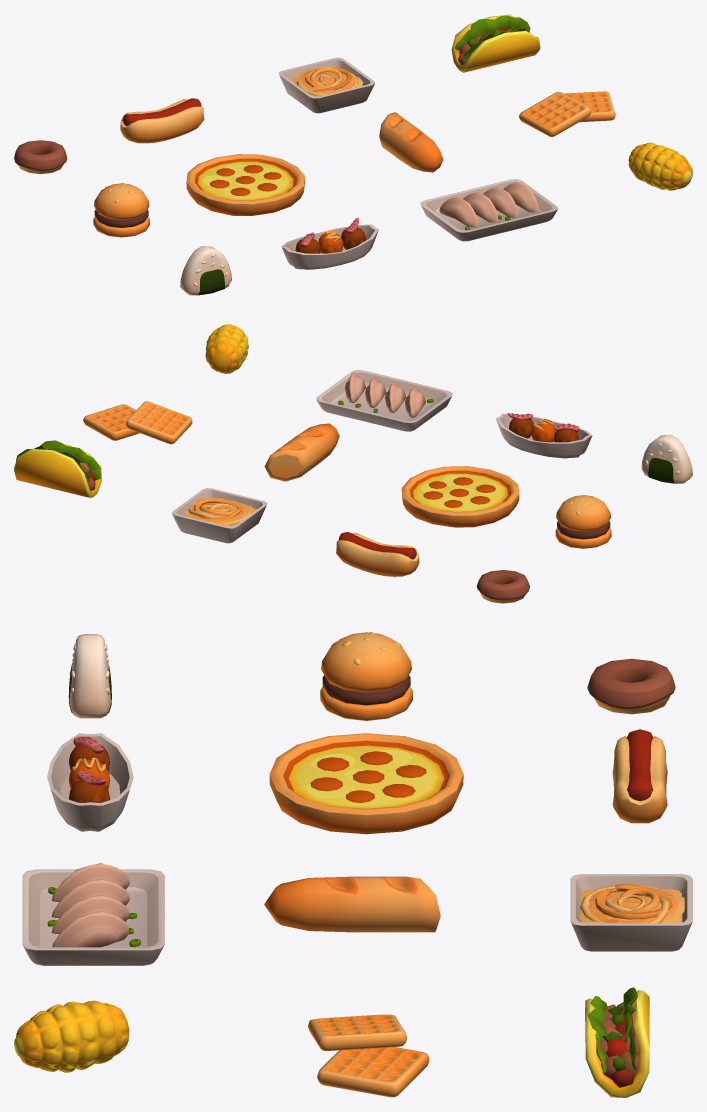
File: Food 1.fbx
3 renders of one model, top to bottom at view 1: azimuth 30°, elevation 25°; view 2: azimuth 150°, elevation 25°; view 3: azimuth 270°, elevation 25°, orthographic. The views are drawn at different scales.
Parts seen in each view (by area): view 1: F_Europe_Pizza_Pepperoni_LOD0, F_Asia_Dumplings_LOD0, F_Latin_Taco_Classic_LOD0, F_Europe_Pasta_LOD0, F_Asia_Takoyaki_Small_LOD0, F_Europe_Bakery_Waffles_LOD0, F_Europe_Hotdog_Hotdog_Classic_LOD0, F_Europe_Burger_Hamburger_LOD0, F_Europe_Bakery_French_Baguette_Half_LOD0, F_Latin_Corn_LOD0, F_Asia_Onigiri_LOD0, F_Europe_Bakery_Donut_Chocolate_LOD0; view 2: F_Europe_Pizza_Pepperoni_LOD0, F_Asia_Dumplings_LOD0, F_Europe_Pasta_LOD0, F_Latin_Taco_Classic_LOD0, F_Asia_Takoyaki_Small_LOD0, F_Europe_Bakery_Waffles_LOD0, F_Europe_Hotdog_Hotdog_Classic_LOD0, F_Europe_Burger_Hamburger_LOD0, F_Europe_Bakery_French_Baguette_Half_LOD0, F_Asia_Onigiri_LOD0, F_Latin_Corn_LOD0, F_Europe_Bakery_Donut_Chocolate_LOD0; view 3: F_Europe_Pizza_Pepperoni_LOD0, F_Asia_Dumplings_LOD0, F_Europe_Pasta_LOD0, F_Europe_Bakery_French_Baguette_Half_LOD0, F_Europe_Bakery_Waffles_LOD0, F_Europe_Burger_Hamburger_LOD0, F_Asia_Takoyaki_Small_LOD0, F_Latin_Corn_LOD0, F_Latin_Taco_Classic_LOD0, F_Europe_Hotdog_Hotdog_Classic_LOD0, F_Europe_Bakery_Donut_Chocolate_LOD0, F_Asia_Onigiri_LOD0.
Part boxes in pixels (x1,y1,x2,y2): F_Europe_Pizza_Pepperoni_LOD0: (186, 154, 304, 215); F_Asia_Dumplings_LOD0: (420, 179, 557, 241); F_Latin_Taco_Classic_LOD0: (451, 14, 540, 72); F_Europe_Pasta_LOD0: (278, 57, 374, 113); F_Asia_Takoyaki_Small_LOD0: (281, 217, 378, 269); F_Europe_Bakery_Waffles_LOD0: (519, 91, 615, 136); F_Europe_Hotdog_Hotdog_Classic_LOD0: (120, 98, 204, 143); F_Europe_Burger_Hamburger_LOD0: (93, 183, 149, 237); F_Europe_Bakery_French_Baguette_Half_LOD0: (379, 112, 443, 172); F_Latin_Corn_LOD0: (628, 142, 692, 190); F_Asia_Onigiri_LOD0: (180, 246, 231, 295); F_Europe_Bakery_Donut_Chocolate_LOD0: (14, 140, 67, 174); F_Europe_Pizza_Pepperoni_LOD0: (401, 466, 519, 527); F_Asia_Dumplings_LOD0: (316, 370, 452, 431); F_Europe_Pasta_LOD0: (171, 488, 267, 543); F_Latin_Taco_Classic_LOD0: (14, 440, 101, 497); F_Asia_Takoyaki_Small_LOD0: (496, 413, 592, 458); F_Europe_Bakery_Waffles_LOD0: (83, 401, 192, 444); F_Europe_Hotdog_Hotdog_Classic_LOD0: (336, 532, 419, 576); F_Europe_Burger_Hamburger_LOD0: (555, 495, 611, 548); F_Europe_Bakery_French_Baguette_Half_LOD0: (264, 423, 339, 481); F_Asia_Onigiri_LOD0: (641, 434, 692, 483); F_Latin_Corn_LOD0: (205, 324, 248, 373); F_Europe_Bakery_Donut_Chocolate_LOD0: (476, 570, 529, 603); F_Europe_Pizza_Pepperoni_LOD0: (269, 733, 463, 834); F_Asia_Dumplings_LOD0: (22, 863, 164, 965); F_Europe_Pasta_LOD0: (570, 874, 692, 951); F_Europe_Bakery_French_Baguette_Half_LOD0: (264, 876, 440, 932); F_Europe_Bakery_Waffles_LOD0: (308, 1014, 429, 1097); F_Europe_Burger_Hamburger_LOD0: (320, 632, 412, 720); F_Asia_Takoyaki_Small_LOD0: (47, 733, 133, 831); F_Latin_Corn_LOD0: (14, 1000, 129, 1072); F_Latin_Taco_Classic_LOD0: (585, 987, 649, 1097); F_Europe_Hotdog_Hotdog_Classic_LOD0: (612, 729, 667, 823); F_Europe_Bakery_Donut_Chocolate_LOD0: (587, 658, 675, 714); F_Asia_Onigiri_LOD0: (68, 634, 111, 718).
Bounding box in the file's own units: 187 × 15.45 × 129.
